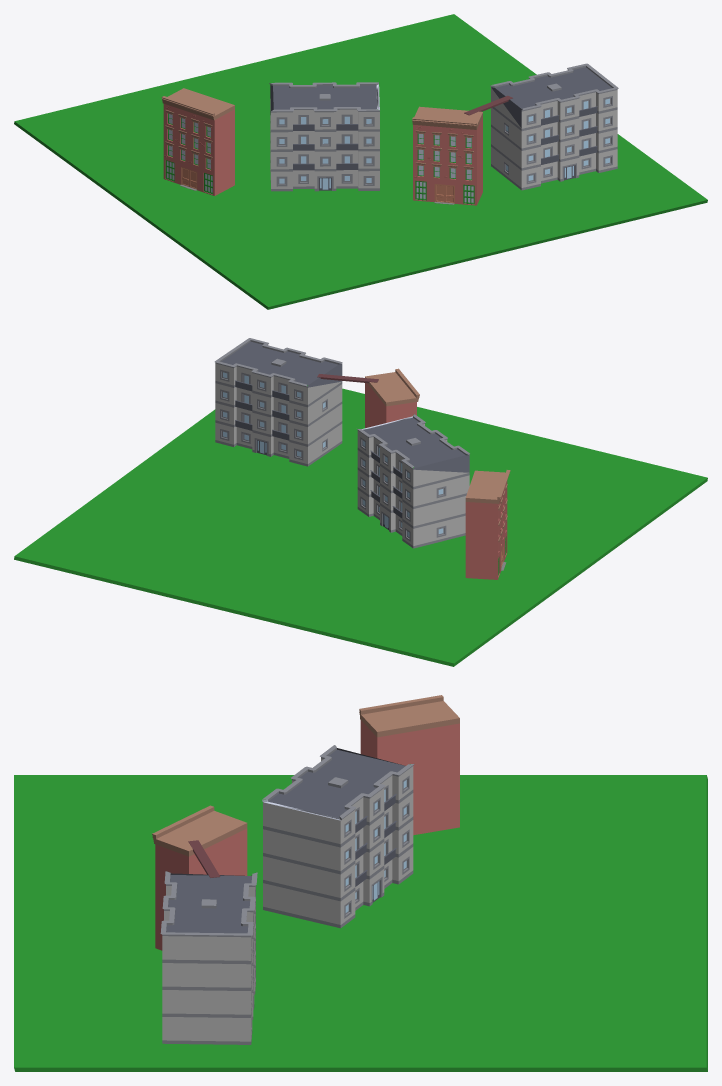
Rendered from level3.glb.
3 renders of one model, top to bottom at view 1: azimuth 30°, elevation 25°; view 2: azimuth 150°, elevation 25°; view 3: azimuth 270°, elevation 25°, orthographic. The views are drawn at different scales.
Parts seen in each view (by area): view 1: BuildingRed1-colonly.001, BuildingRed1, BuildingRed2; view 2: BuildingRed1-colonly.001, BuildingRed2, BuildingRed1; view 3: BuildingRed1-colonly.001, BuildingRed2, BuildingRed1.
Boxes of the visible parts, x1=… form: BuildingRed1-colonly.001: x1=14, y1=14, x2=707, y2=309; BuildingRed1: x1=412, y1=63, x2=618, y2=205; BuildingRed2: x1=161, y1=82, x2=379, y2=195; BuildingRed1-colonly.001: x1=14, y1=388, x2=707, y2=666; BuildingRed2: x1=357, y1=414, x2=510, y2=579; BuildingRed1: x1=214, y1=338, x2=419, y2=466; BuildingRed1-colonly.001: x1=14, y1=775, x2=707, y2=1071; BuildingRed2: x1=262, y1=695, x2=459, y2=928; BuildingRed1: x1=152, y1=805, x2=257, y2=1044.
Size of what is drawn, in the model's own units: 134 by 24.99 by 134.
